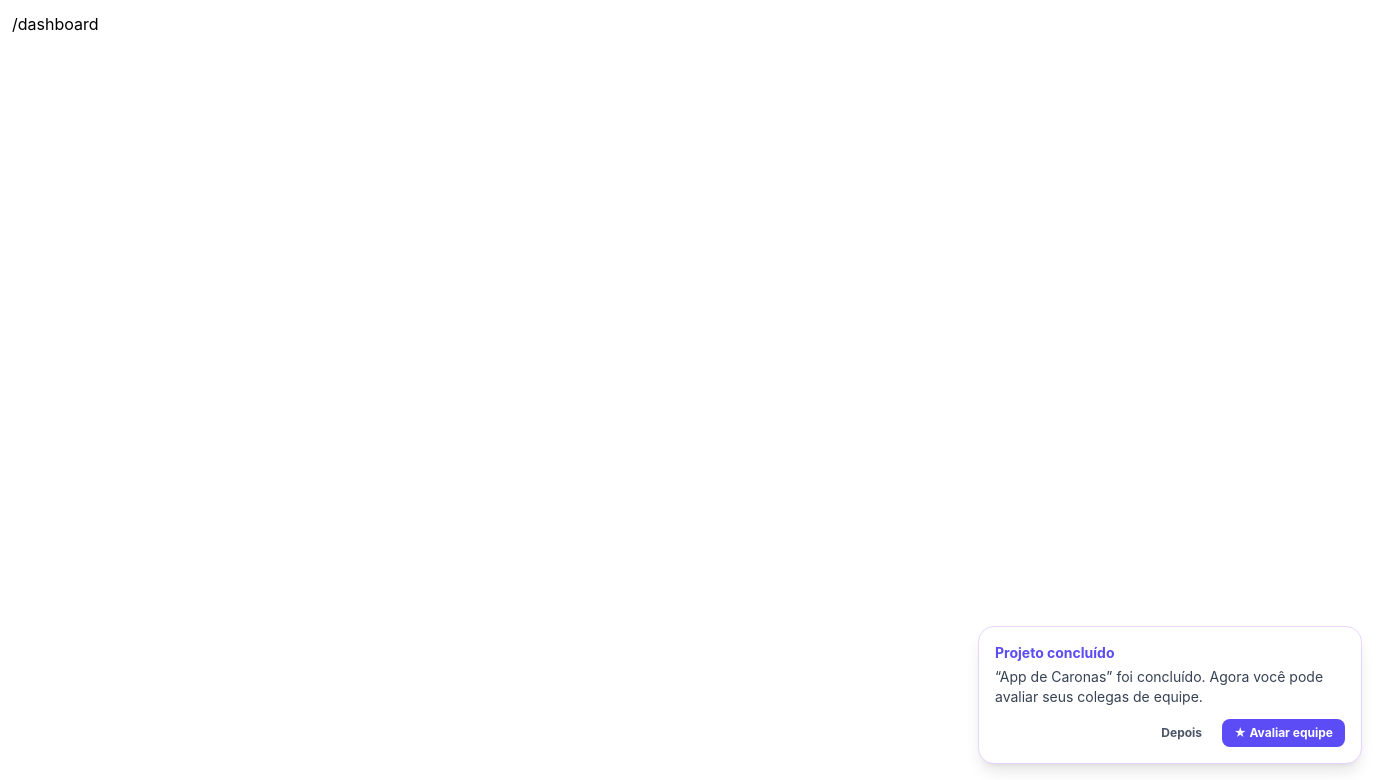
Test: AvisosDeProjeto › avisa a conclusão e leva para a aba Equipe ao clicar em avaliar, marcando como visto
The image size is (1378, 780).
Check: the text "“App de Caronas” foi concluído" is shown, box [995,667,1345,707]
Click the button "★ Avaliar equipe": (1284, 733) [1222,719,1345,747]
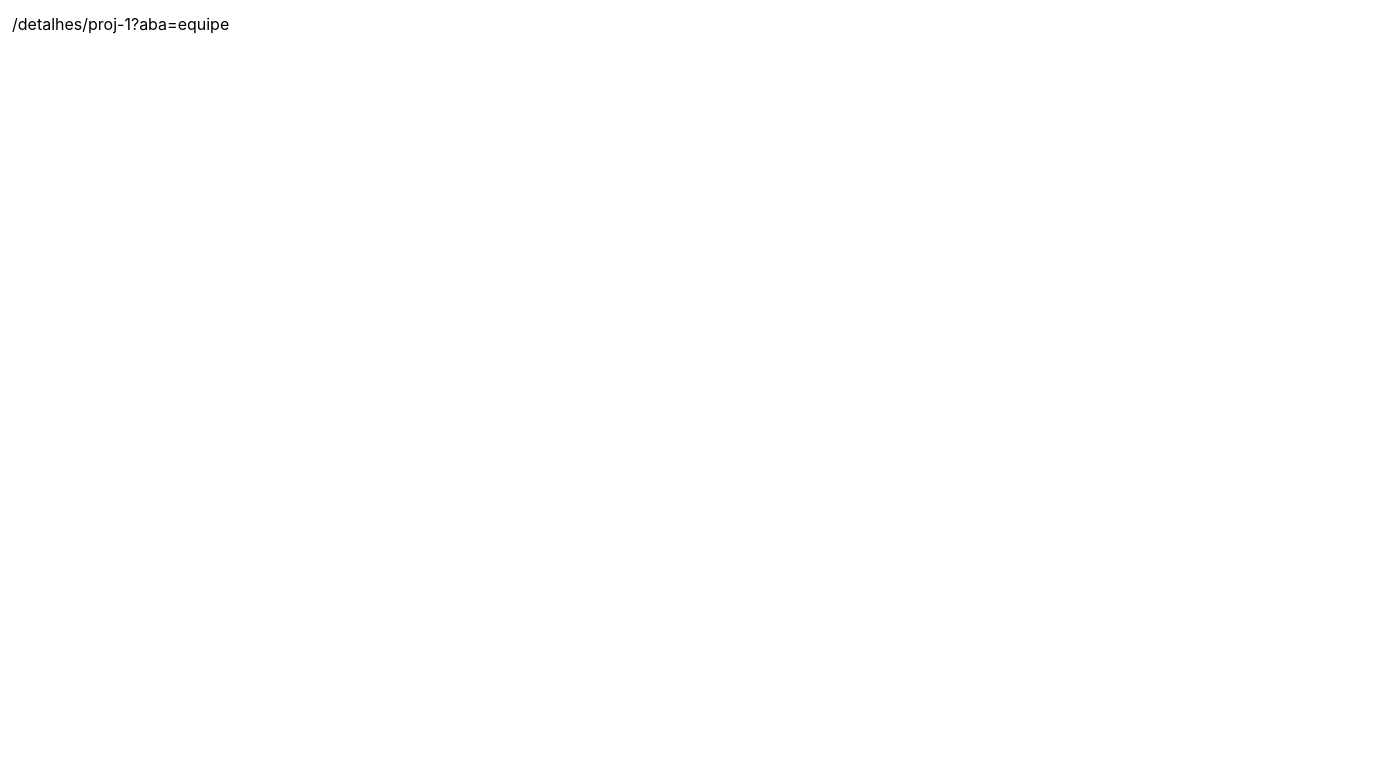
Check: the text with test id "rota" reads "/detalhes/proj-1?aba=equipe", box [12,14,229,34]
Check: the message with test id "aviso-aviso-1" is gone
